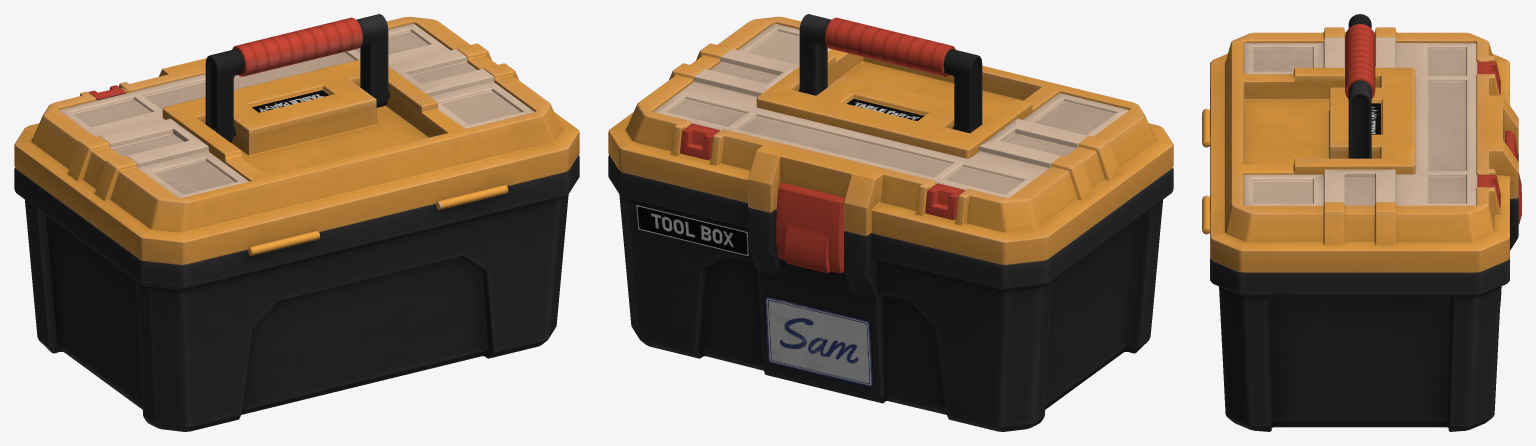
File: StackUp_DadBox.fbx
The picture shows the model from 3 angles, left to right: view 1: azimuth 30°, elevation 25°; view 2: azimuth 150°, elevation 25°; view 3: azimuth 270°, elevation 25°; orthographic projection. The views are drawn at different scales.
Visible parts, largest first — view 1: StackUp_DadBox; view 2: StackUp_DadBox; view 3: StackUp_DadBox.
Part boxes in pixels (x1,y1,x2,y2): StackUp_DadBox: [14, 14, 579, 431]; StackUp_DadBox: [608, 14, 1173, 431]; StackUp_DadBox: [1202, 14, 1521, 431].
Size of the model in its own units: 40 by 26.81 by 26.66.
